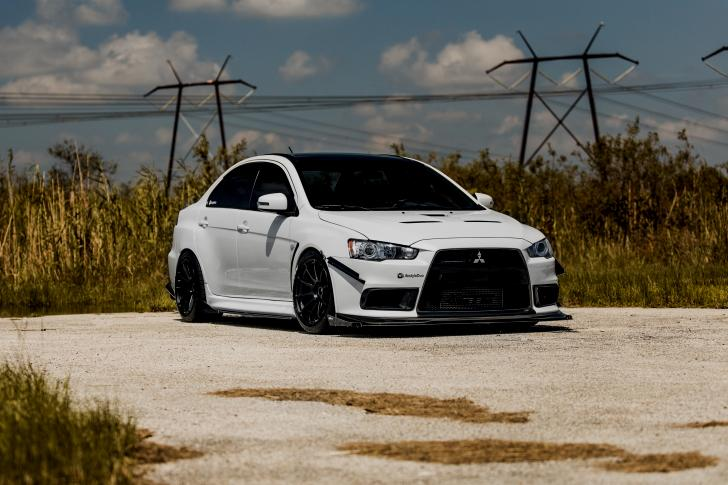Mitsubishi: (466, 245, 500, 270)
